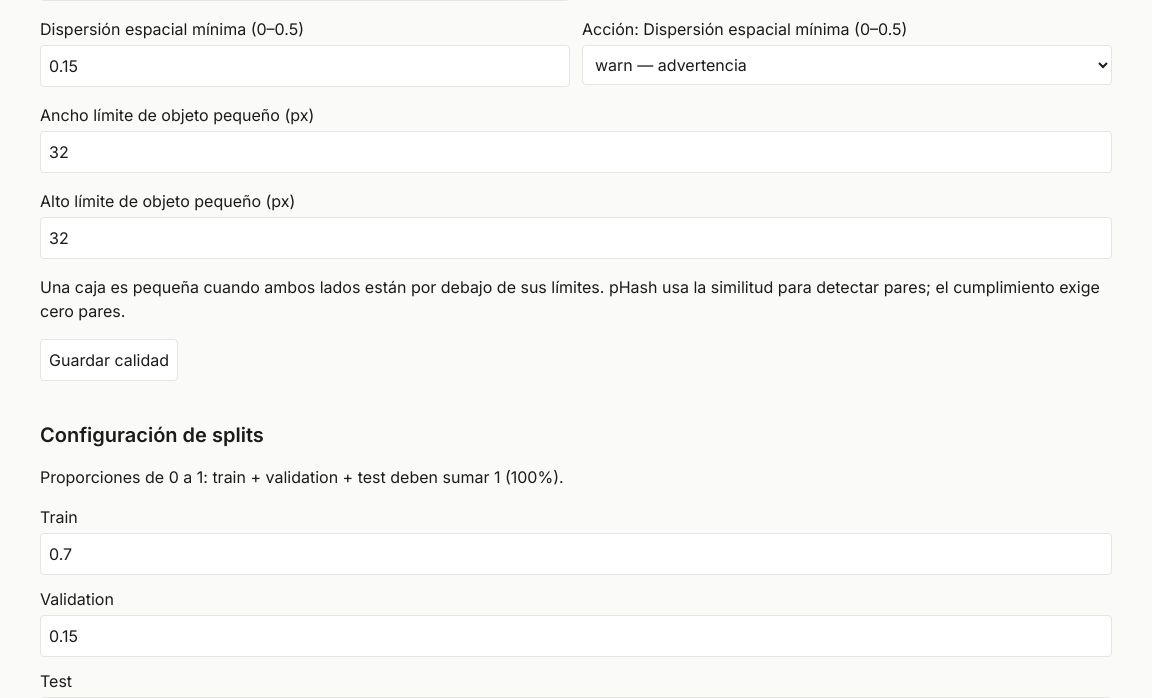
shows backend save error without claiming success
(page scrolled)
Click the button "Guardar calidad" at (109,360), box [40,339,178,381]
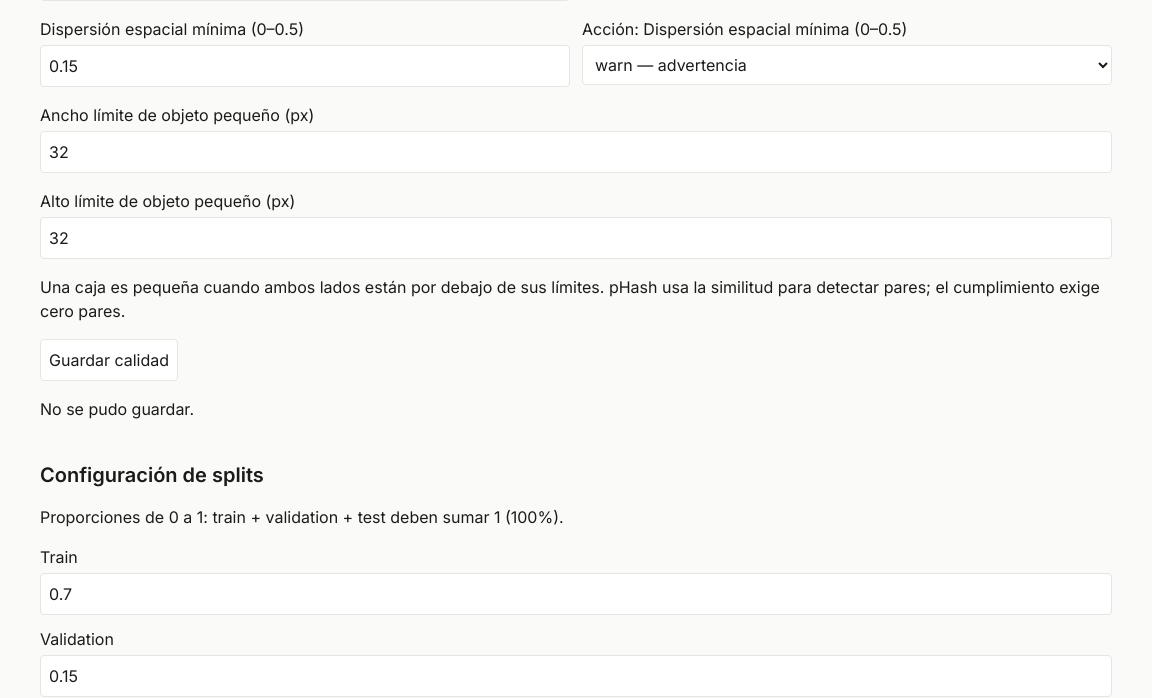
Check: the message reads "No se pudo guardar.", box [40,399,194,419]
